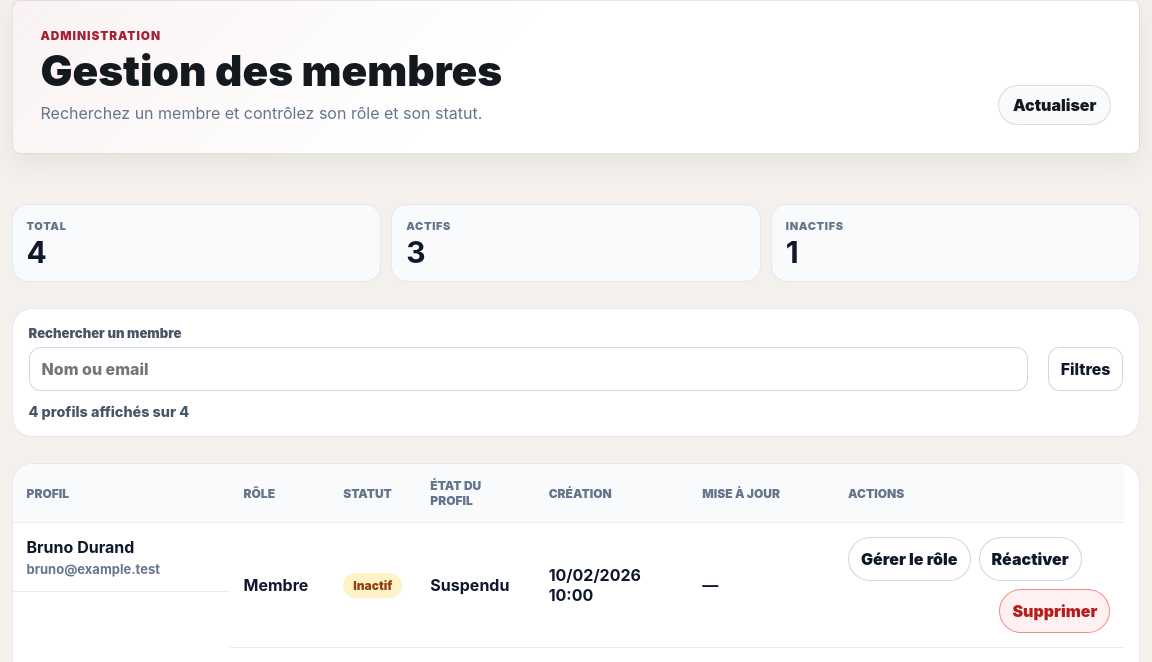
it: recherche et filtres des membres › affiche aucun résultat pour une recherche sans correspondance
Type "introuvable" into the search field labelled "Rechercher un membre" at (528, 370), box left=28, top=348, right=1028, bottom=392
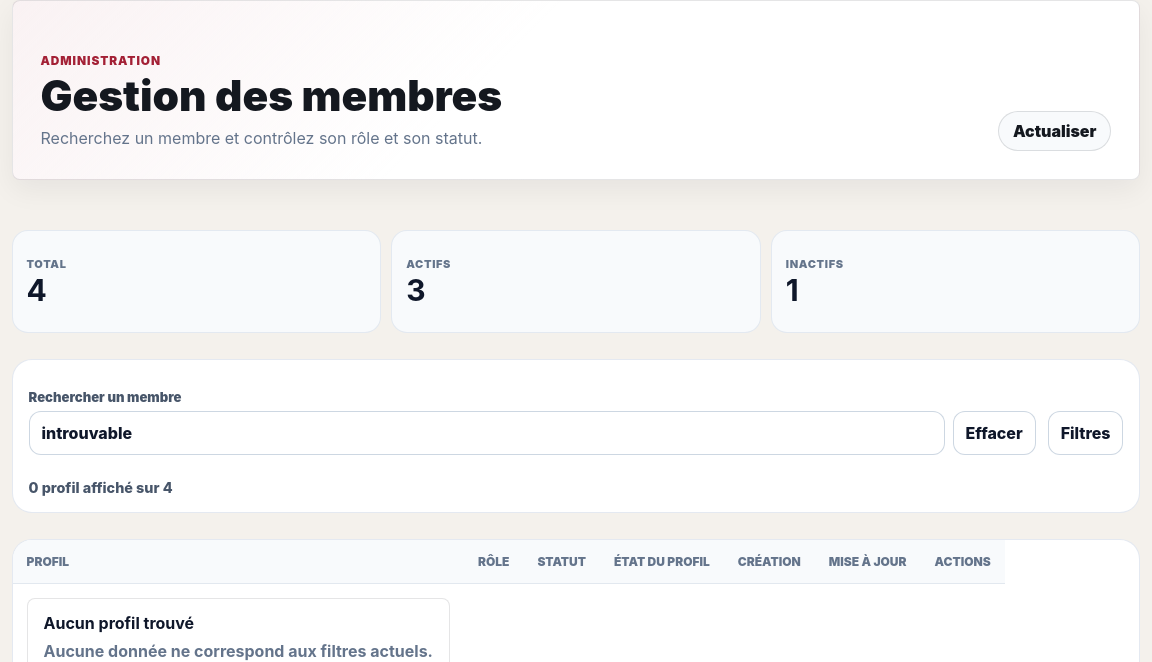
Expected: the text "0 profil affiché sur 4" is shown, left=28, top=480, right=173, bottom=496
